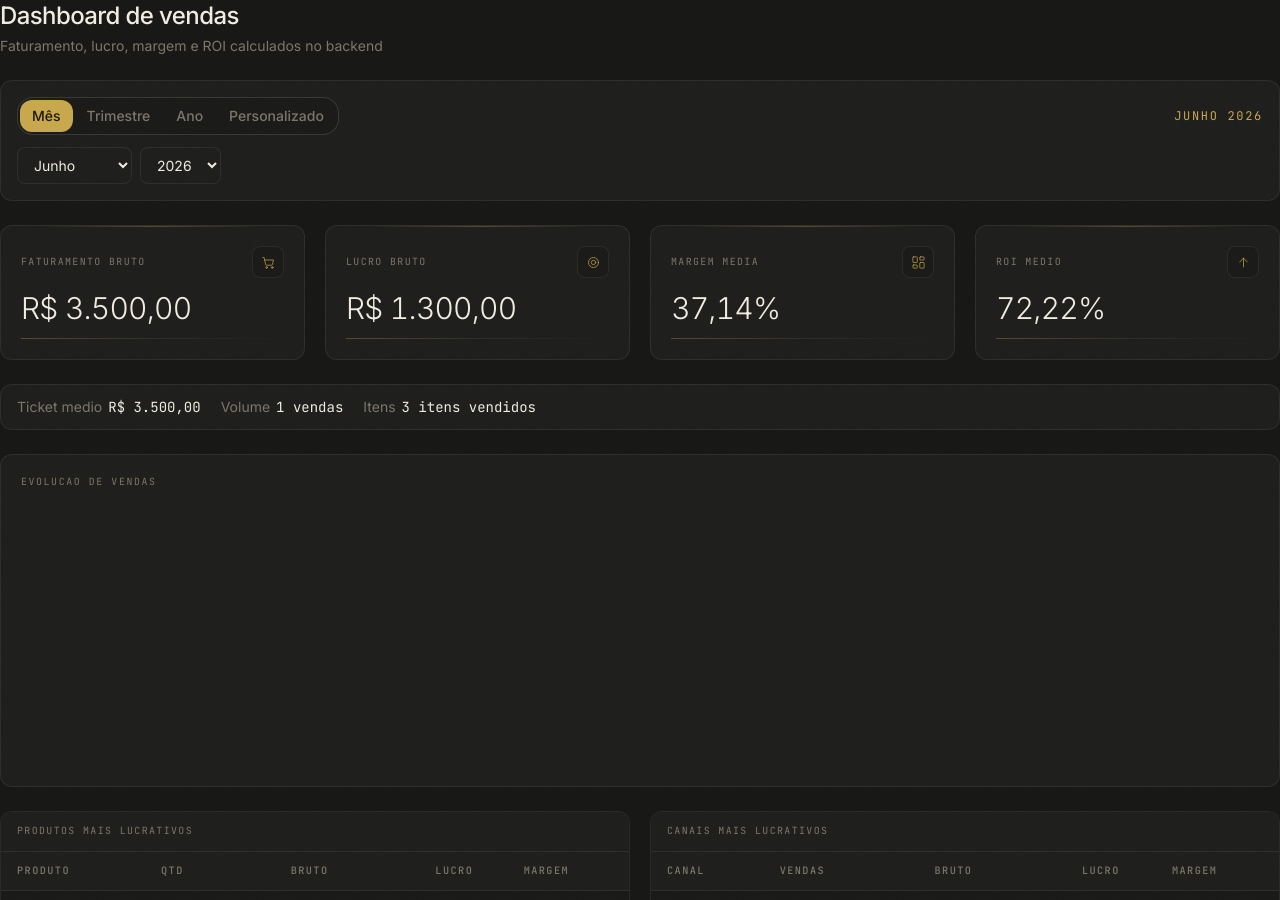
Test case: VendasDashboard › aborta a requisicao anterior e limpa dados antigos ao trocar periodo
Expected: the text "3 itens vendidos" is shown, x1=402 y1=397 x2=536 y2=417
Select "Julho" in the 1st dropdown showing "Junho": [74, 166] box x1=17 y1=147 x2=132 y2=184
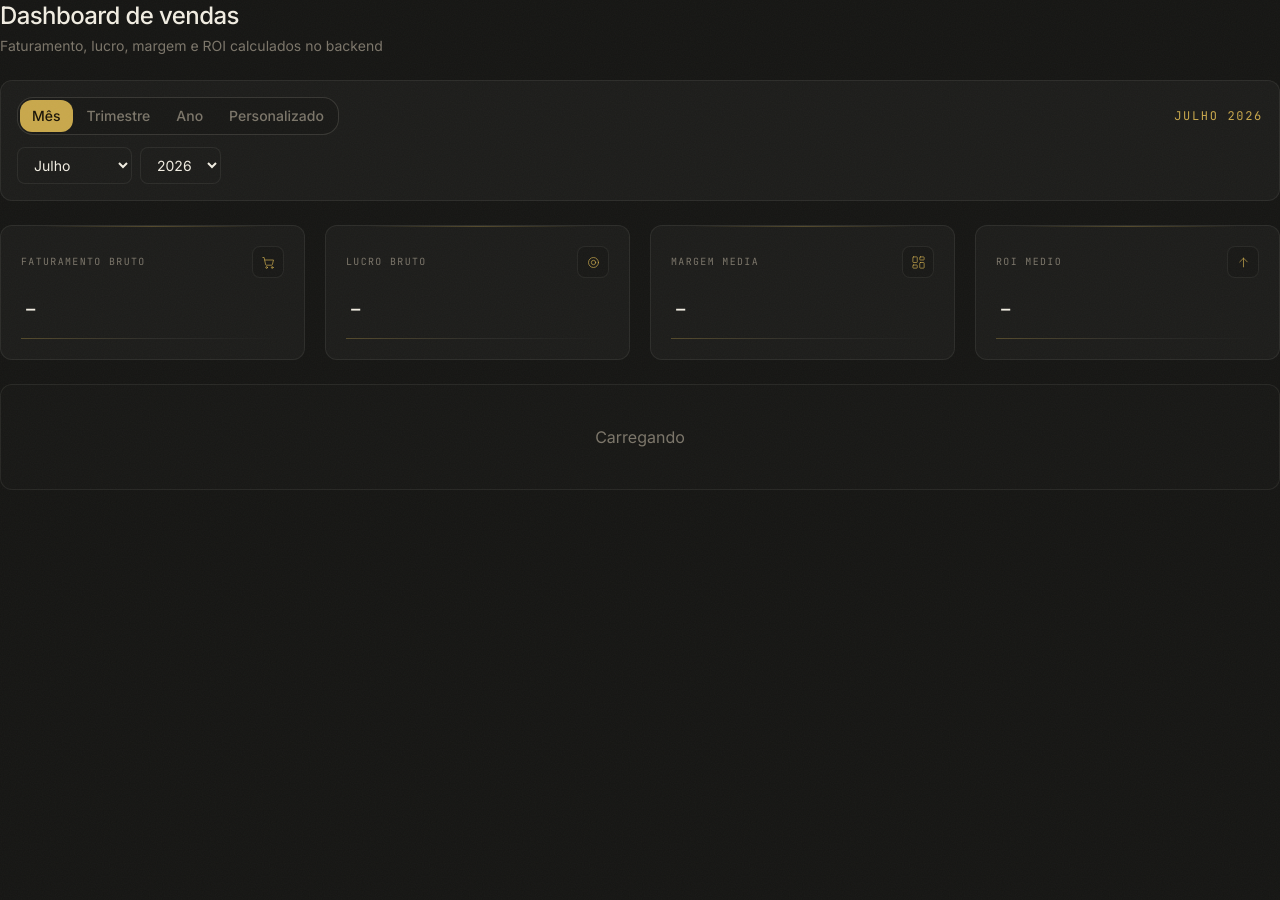
Expected: the text "3 itens vendidos" is gone
Expected: the text "Carregando" is shown, x1=0 y1=384 x2=1279 y2=490
